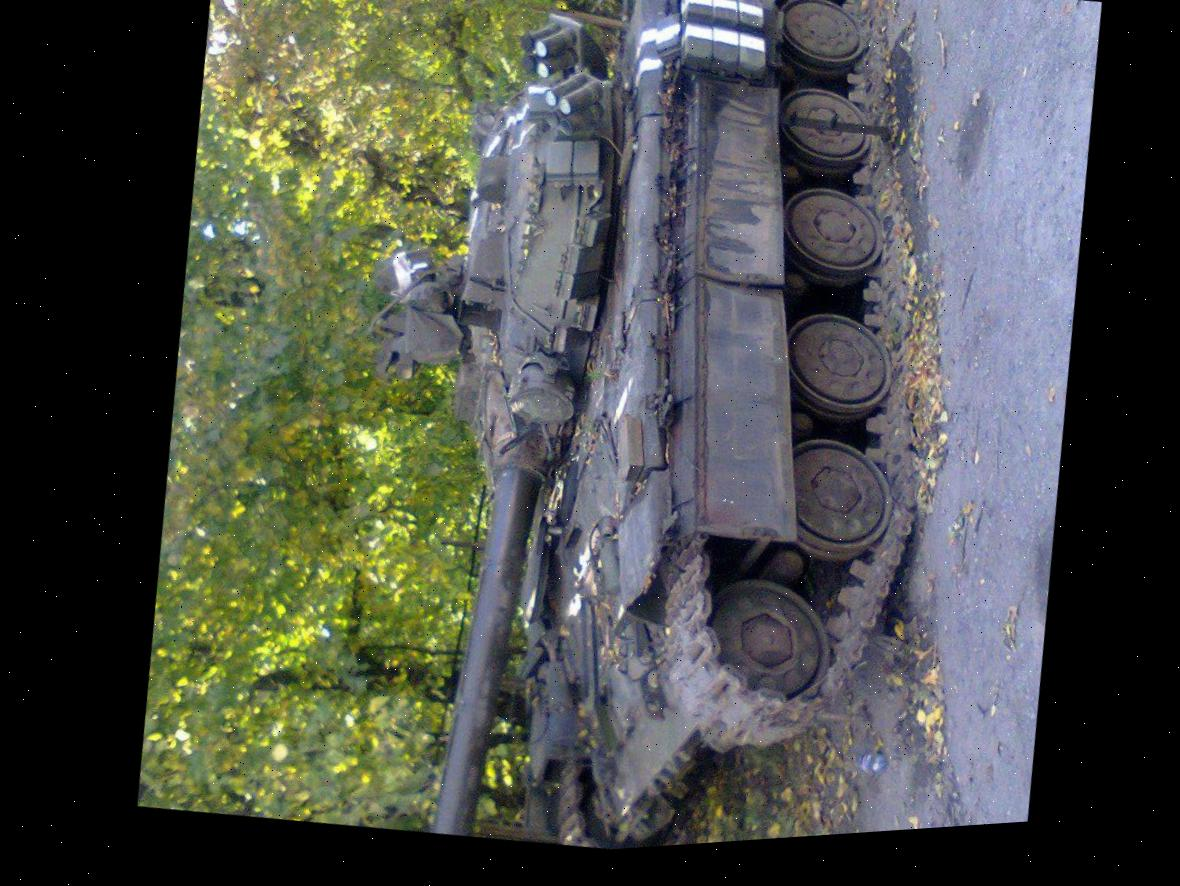tank: (266, 0, 1023, 868)
